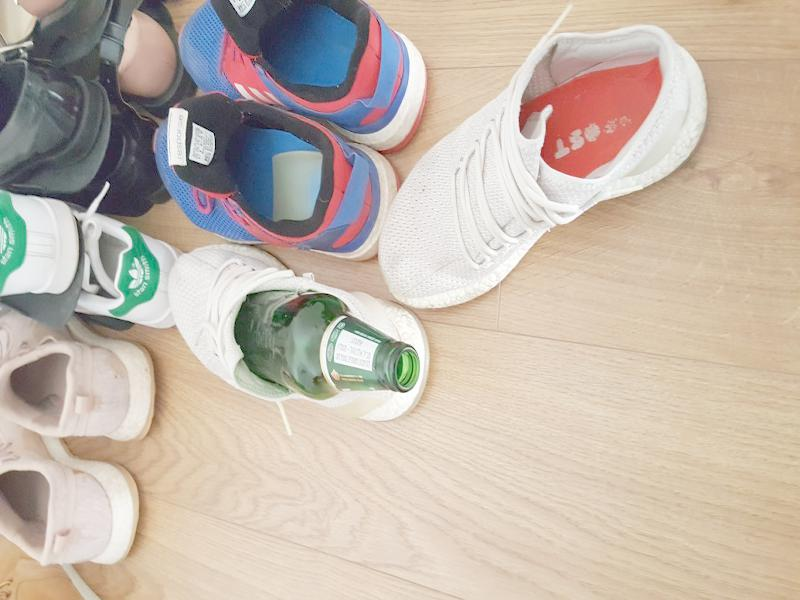Beer: (236, 288, 420, 399)
